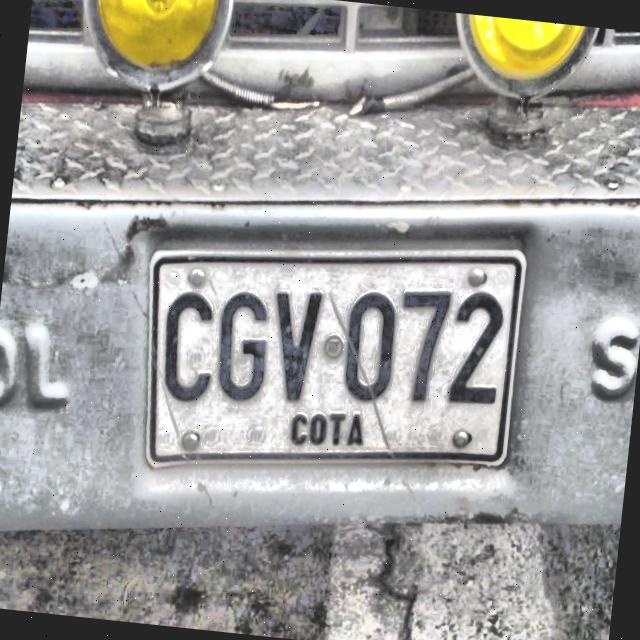plate: (154, 257, 518, 461)
